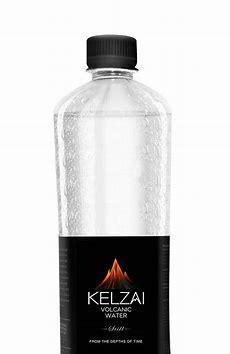plastic_bottle: (47, 29, 181, 354)
